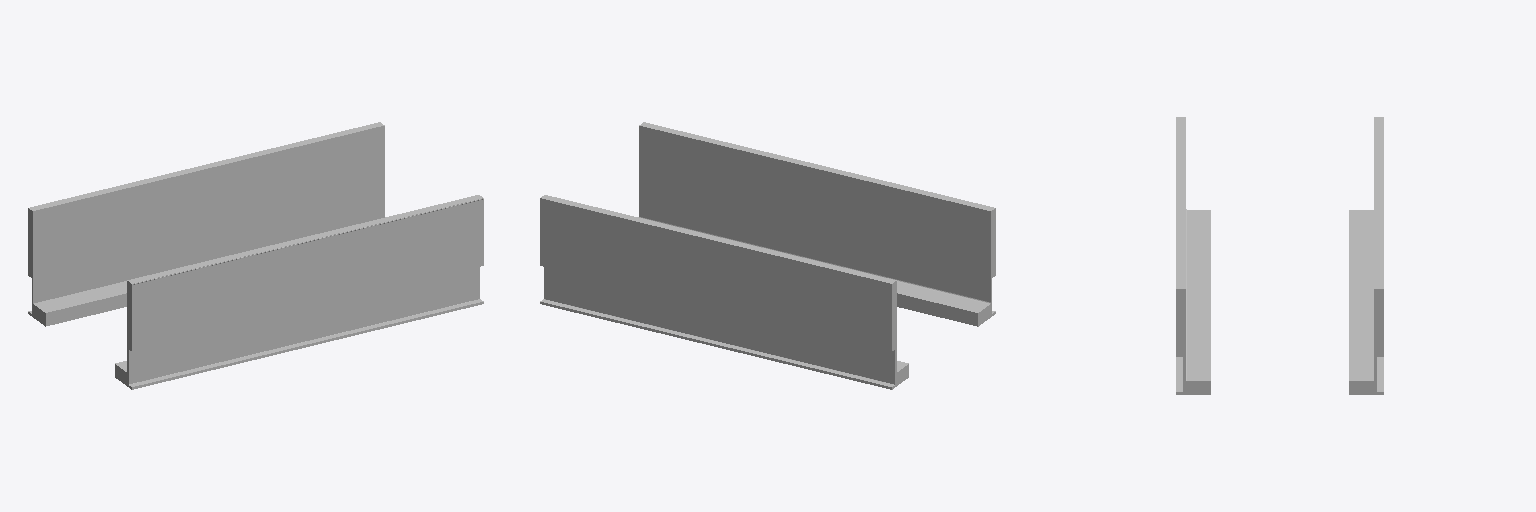
The model's file is _02_wanne.obj.
The picture shows the model from 3 angles: view 1: azimuth 30°, elevation 25°; view 2: azimuth 150°, elevation 25°; view 3: azimuth 270°, elevation 25°; orthographic projection.
Visible parts, largest first — view 1: 0, 1; view 2: 1, 0; view 3: 0, 1.
Boxes of the visible parts, box(x1,y1,x2,y2) form: 0: box(115, 195, 483, 389); 1: box(28, 122, 384, 326); 1: box(540, 195, 908, 389); 0: box(639, 122, 995, 326); 0: box(1176, 117, 1210, 394); 1: box(1349, 117, 1383, 394).
Bounding box in the file's own units: 500 × 144 × 256.